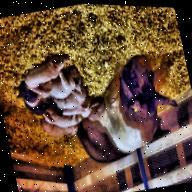boar: (7, 26, 190, 182)
